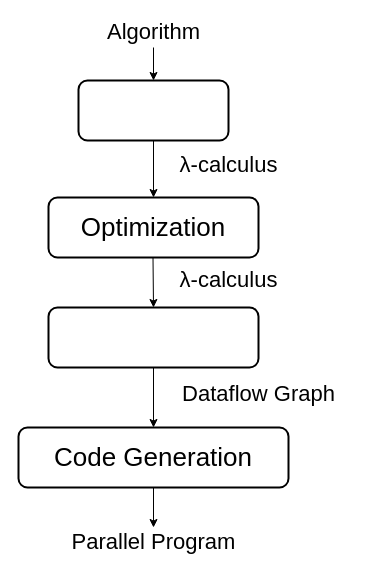
This 365x574 diagram has some shape labels left out. The shapes that lost their labels are listed below. From the top down, each one's centre as x and y in pixels, then its label:
At (x=153, y=110): "Parser".
At (x=153, y=337): "Lowering".
